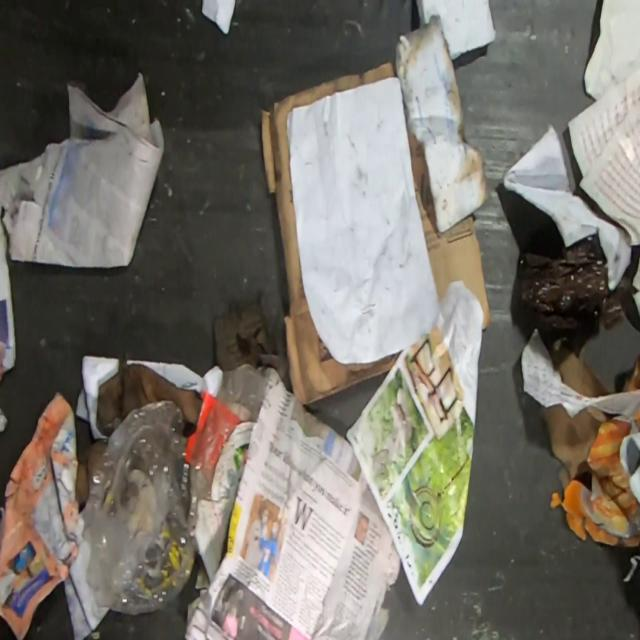cardboard: (260, 61, 404, 404), (408, 131, 493, 331)
soft_plastic: (81, 363, 269, 617), (516, 231, 638, 358)
